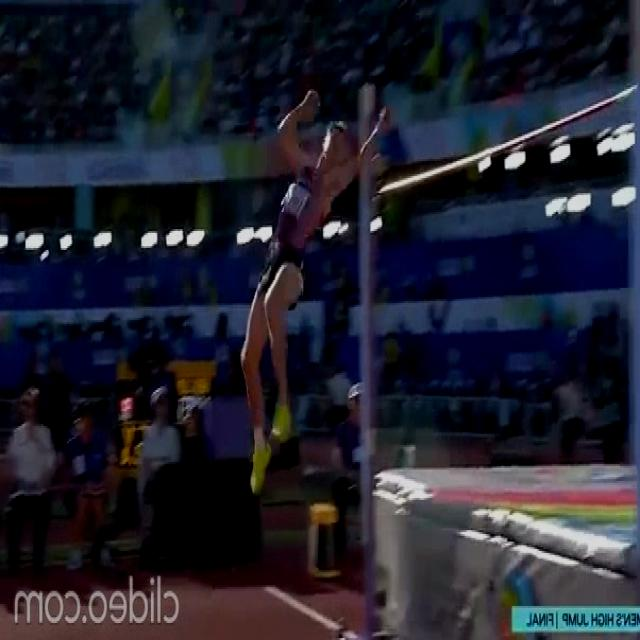jump: (242, 86, 392, 492)
